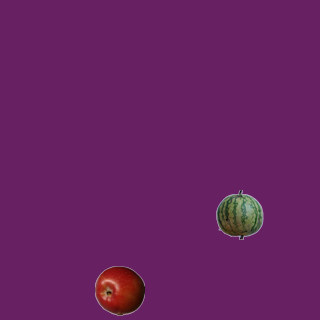Apple Braeburn: (94, 265, 144, 315)
Watermelon: (214, 189, 264, 239)
